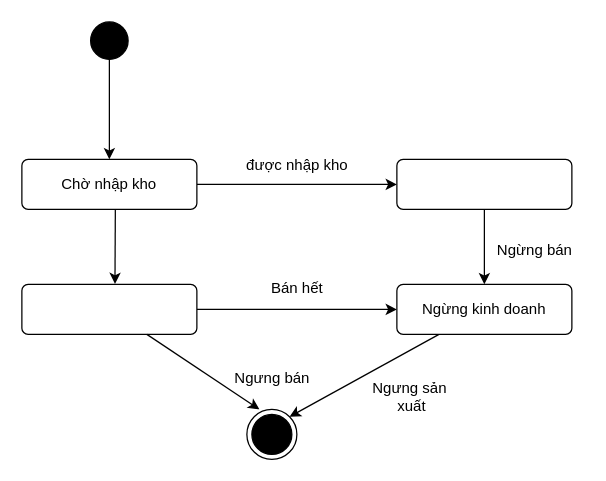
This 606x481 diagram has some shape labels left out. Each missing label, with the centre of its shape:
"Còn hàng" goes at (484,183).
"Hết hàng" goes at (109,308).
